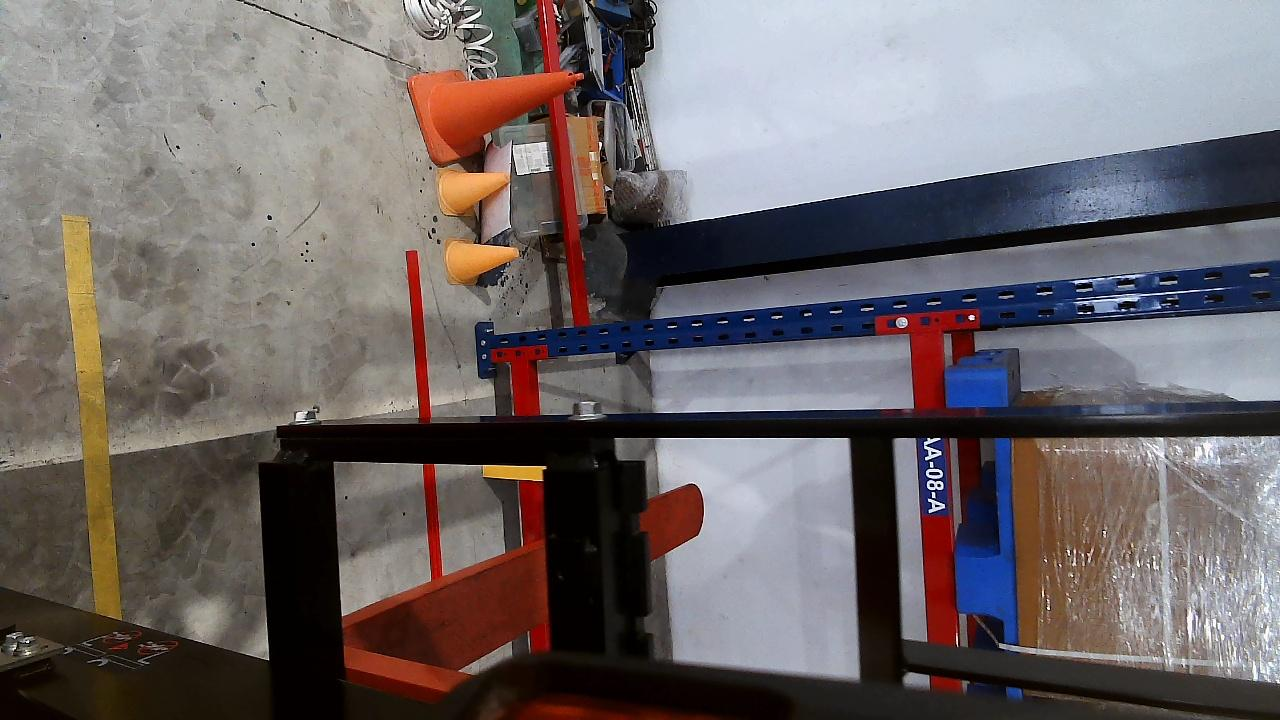h_rack: (909, 333, 954, 644)
orange_strip: (482, 464, 544, 480)
red_line: (404, 249, 454, 577)
small_pallet: (948, 365, 1007, 647), (507, 357, 555, 651)
yellow_line: (58, 214, 120, 620)
